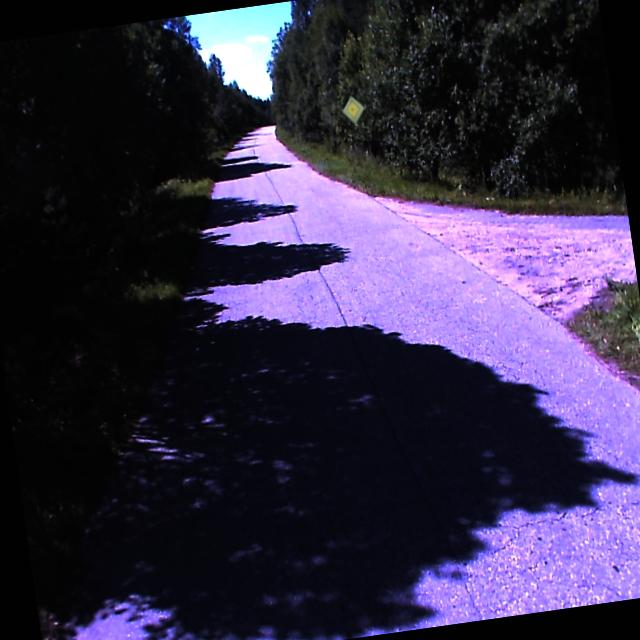road: (58, 125, 640, 640)
